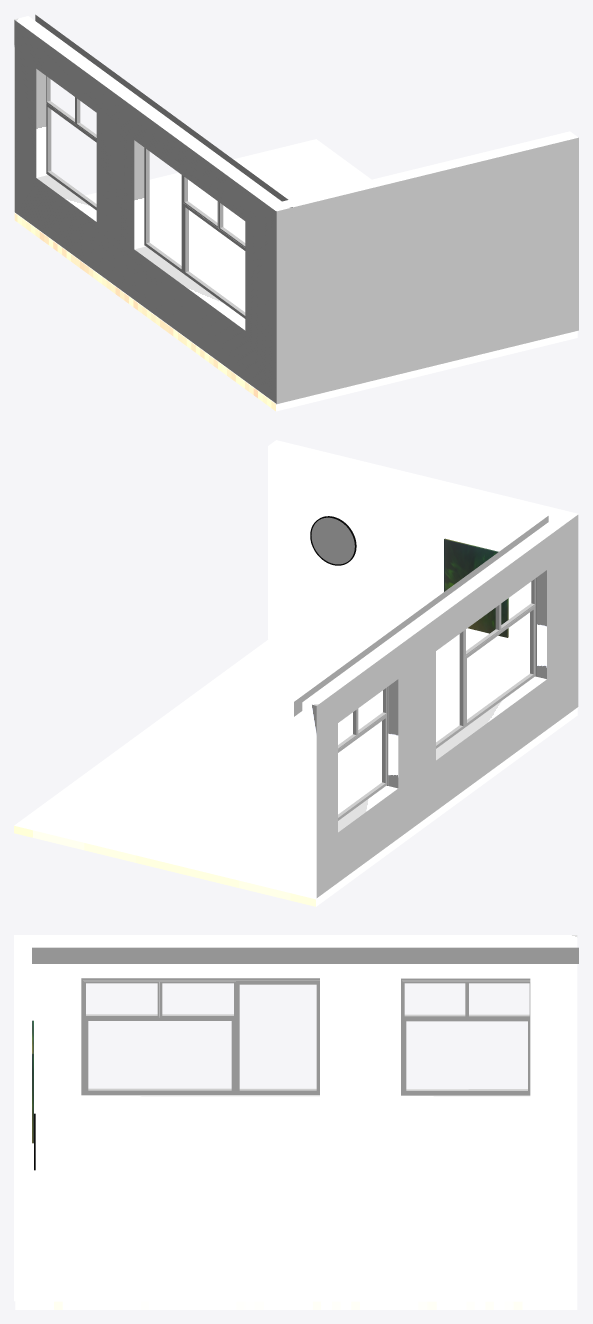
The model's file is room.glb.
3 renders of one model, top to bottom at view 1: azimuth 30°, elevation 25°; view 2: azimuth 150°, elevation 25°; view 3: azimuth 270°, elevation 25°, orthographic. The views are drawn at different scales.
Visible parts, largest first — view 1: Plane.001, Plane, DryWall, TopElement, Window_Large_1, Window_Large_2, Window_Small_1; view 2: Plane, DryWall, Plane.001, Picture, TopElement, Mirror_Glass, Window_Large_2, Window_Small_1, Window_Large_1; view 3: Plane, DryWall, TopElement, Window_Large_2, Window_Small_1, Window_Large_Frame, Window_Large_1, Window_Small_Frame, Plane.001, Window_Large_3, Window_Large_4, Window_Small_2 (+1 smaller).
Boxes of the visible parts, x1=… form: Plane.001: x1=14, y1=20, x2=578, y2=404; Plane: x1=14, y1=139, x2=577, y2=411; DryWall: x1=14, y1=16, x2=577, y2=403; TopElement: x1=35, y1=14, x2=292, y2=207; Window_Large_1: x1=144, y1=147, x2=183, y2=273; Window_Large_2: x1=183, y1=203, x2=245, y2=318; Window_Small_1: x1=46, y1=103, x2=96, y2=210; Plane: x1=14, y1=639, x2=577, y2=906; DryWall: x1=268, y1=440, x2=578, y2=898; Plane.001: x1=316, y1=515, x2=578, y2=897; Picture: x1=444, y1=538, x2=508, y2=637; TopElement: x1=294, y1=516, x2=548, y2=716; Mirror_Glass: x1=311, y1=517, x2=354, y2=564; Window_Large_2: x1=465, y1=605, x2=535, y2=727; Window_Small_1: x1=338, y1=714, x2=387, y2=820; Window_Large_1: x1=436, y1=630, x2=464, y2=748; Plane: x1=15, y1=1150, x2=577, y2=1309; DryWall: x1=14, y1=935, x2=577, y2=1301; TopElement: x1=32, y1=947, x2=578, y2=963; Window_Large_2: x1=83, y1=1016, x2=235, y2=1093; Window_Small_1: x1=402, y1=1018, x2=530, y2=1094; Window_Large_Frame: x1=81, y1=978, x2=319, y2=1095; Window_Large_1: x1=236, y1=981, x2=319, y2=1093; Window_Small_Frame: x1=401, y1=978, x2=530, y2=1095; Plane.001: x1=81, y1=978, x2=529, y2=1096; Window_Large_3: x1=83, y1=981, x2=159, y2=1017; Window_Large_4: x1=160, y1=981, x2=235, y2=1017; Window_Small_2: x1=402, y1=981, x2=466, y2=1017.
Bounding box in the file's own units: 4.21 × 2.67 × 6.32.
Materials: 6 (1 with a texture image).
